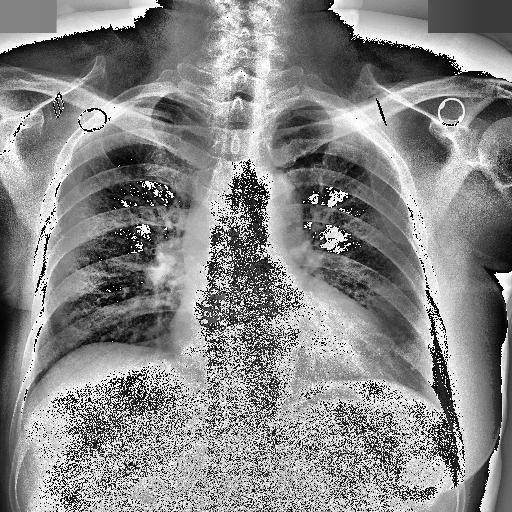0- Aortic enlargement: (242, 169, 302, 229)
3- Cardiomegaly: (167, 304, 405, 386), (167, 316, 396, 392), (165, 327, 400, 377)
